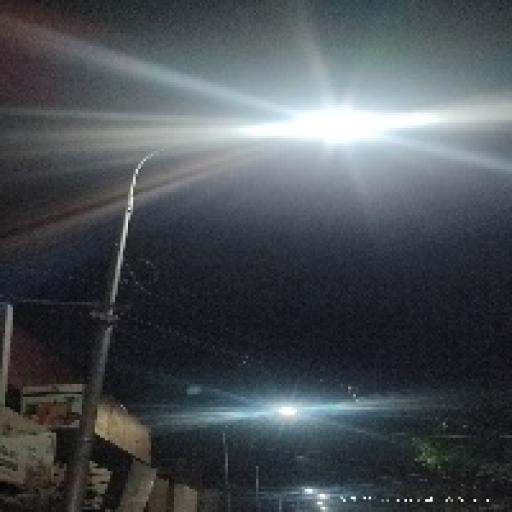Not Working: (181, 382, 209, 401)
Working: (234, 94, 426, 162), (266, 401, 304, 418), (296, 485, 316, 495), (312, 498, 326, 506)
